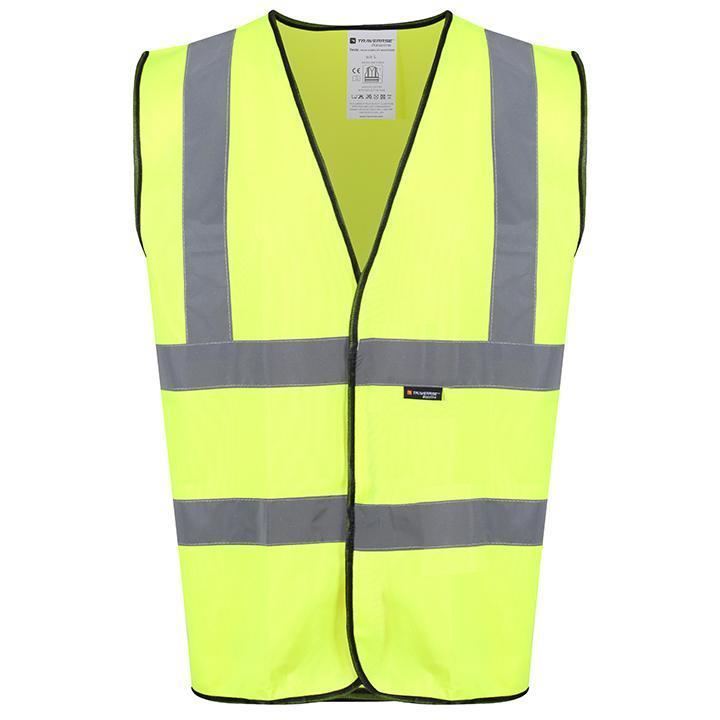vest: (128, 11, 589, 703)
